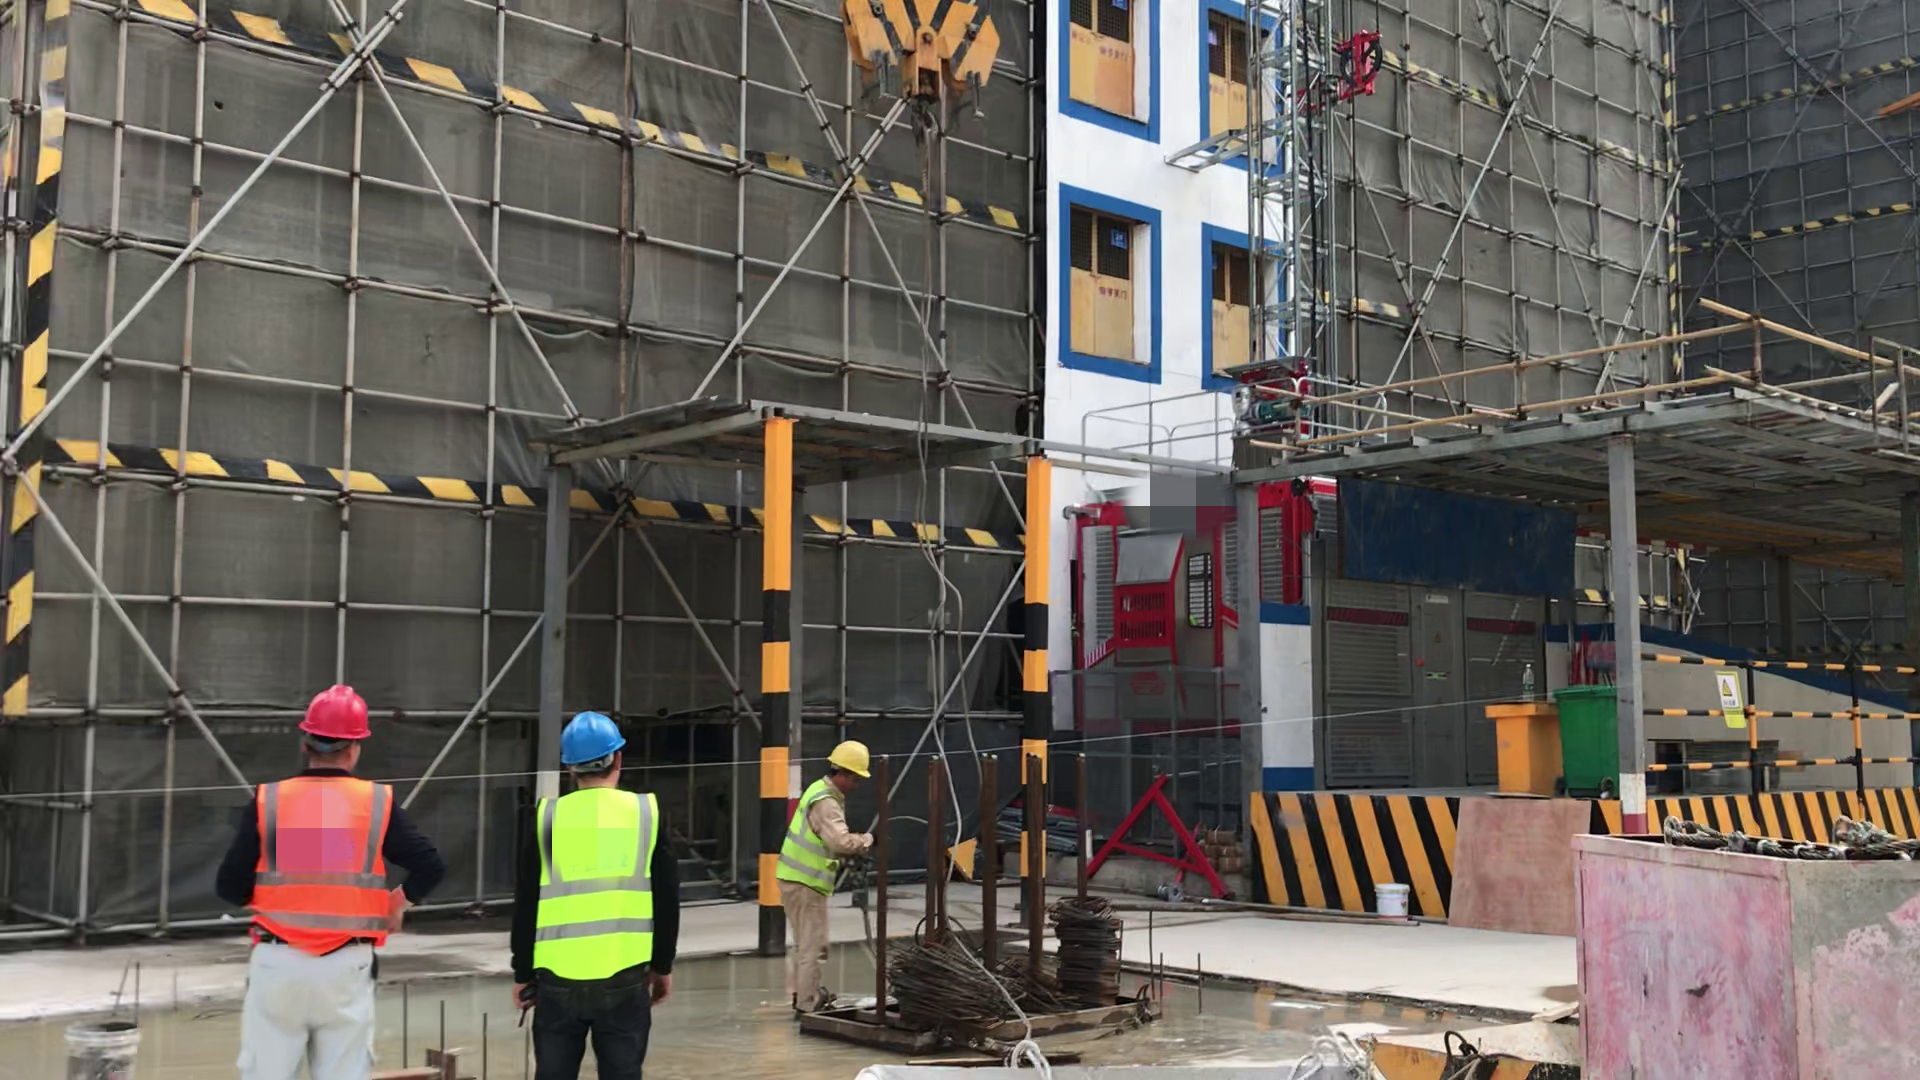ebox: (1489, 693, 1563, 789)
helmet: (554, 708, 624, 770), (298, 685, 371, 742), (828, 743, 867, 781)
hook: (838, 1, 1001, 142)
hopper: (1358, 1029, 1579, 1080)
person: (227, 685, 412, 1080), (512, 708, 678, 1080), (777, 743, 870, 1014)
slogan: (1711, 665, 1747, 733)
vest: (529, 795, 654, 984), (250, 788, 393, 951), (778, 787, 839, 892)
